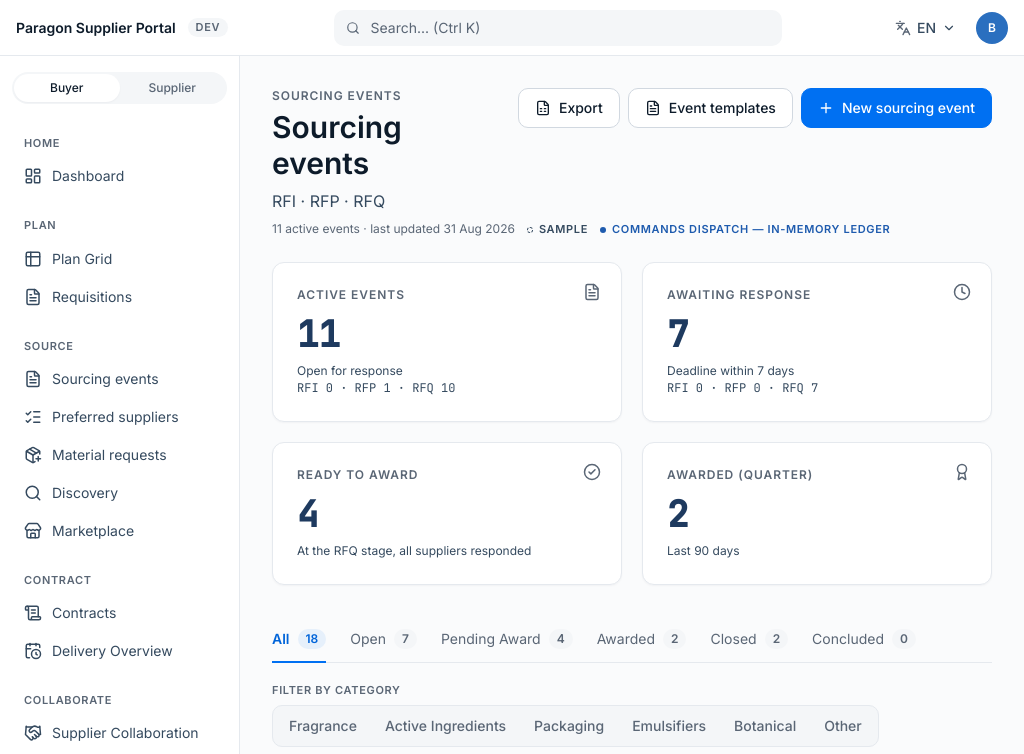
Scenario: 1 · the buyer sets the criteria on a draft › the wizard says, in the RFP’s one line, that proposals are scored on criteria set on the draft
This screenshot has width=1024, height=754.
Click the button "New sourcing event" at point(896, 108), box [801,88,992,128]
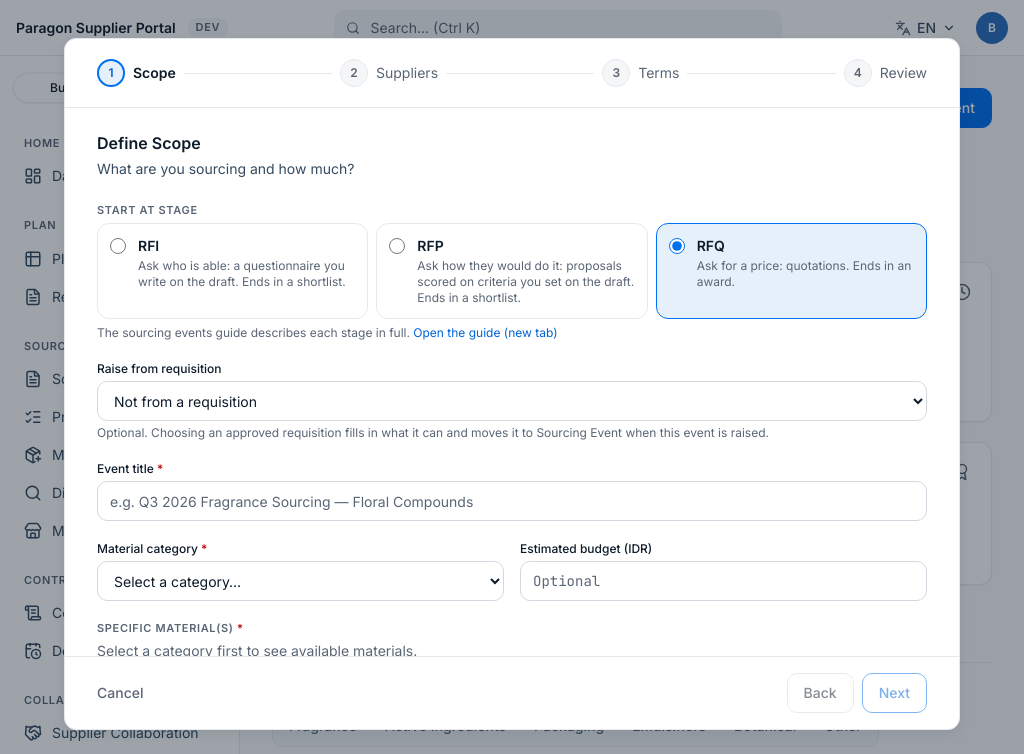
Now the text "Ask how they would do it: proposals scored on criteria you set on the draft. Ends in a shortlist." is shown, box [417,258,634,305]
Now the text "Event title" is shown, box [97,461,154,476]
